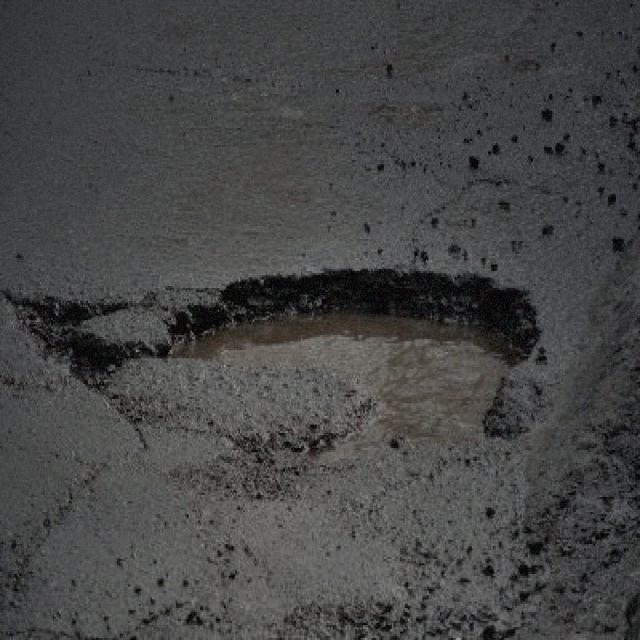pothole: (154, 262, 547, 468), (5, 290, 142, 397)
